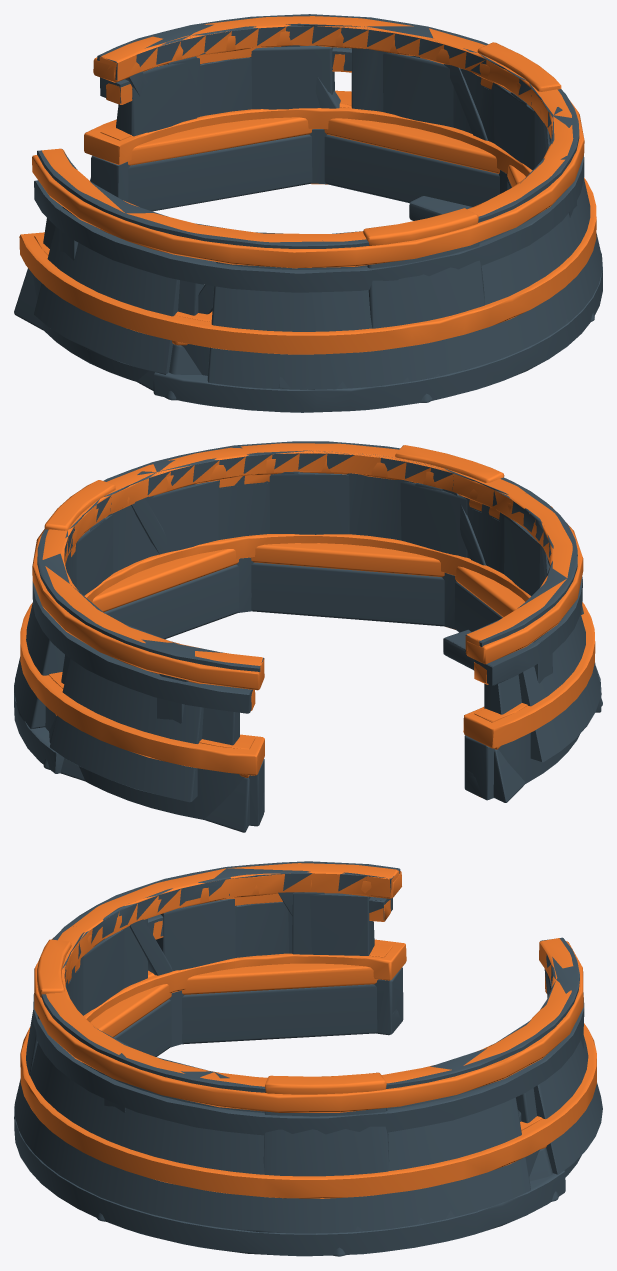
The model's file is Motor_Covers.fbx.
3 renders of one model, top to bottom at view 1: azimuth 30°, elevation 25°; view 2: azimuth 150°, elevation 25°; view 3: azimuth 270°, elevation 25°, orthographic.
Visible parts, largest first — view 1: MC_04_Crescent_Shield, MC_03_Faceted_Vented, MC_06_Hex_Bumper, MC_01_Low_Bumper, MC_02_Open_Roll_Cage, MC_09_Louver_Cage, MC_08_Petal_Armor, MC_05_Turbine_Decor, MC_10_Twin_Skid, MC_07_Double_Halo; view 2: MC_06_Hex_Bumper, MC_03_Faceted_Vented, MC_01_Low_Bumper, MC_08_Petal_Armor, MC_02_Open_Roll_Cage, MC_05_Turbine_Decor, MC_04_Crescent_Shield, MC_09_Louver_Cage, MC_10_Twin_Skid; view 3: MC_04_Crescent_Shield, MC_03_Faceted_Vented, MC_01_Low_Bumper, MC_06_Hex_Bumper, MC_02_Open_Roll_Cage, MC_09_Louver_Cage, MC_05_Turbine_Decor, MC_10_Twin_Skid, MC_08_Petal_Armor.
Boxes of the visible parts, x1,y1,x2,y2 form: MC_04_Crescent_Shield: [153, 48, 602, 412]; MC_03_Faceted_Vented: [32, 31, 584, 315]; MC_06_Hex_Bumper: [14, 117, 594, 402]; MC_01_Low_Bumper: [19, 90, 596, 381]; MC_02_Open_Roll_Cage: [42, 16, 573, 242]; MC_09_Louver_Cage: [34, 47, 584, 321]; MC_08_Petal_Armor: [34, 45, 599, 389]; MC_05_Turbine_Decor: [37, 14, 579, 314]; MC_10_Twin_Skid: [363, 42, 561, 328]; MC_07_Double_Halo: [106, 54, 411, 202]; MC_06_Hex_Bumper: [43, 543, 602, 832]; MC_03_Faceted_Vented: [32, 458, 583, 822]; MC_01_Low_Bumper: [20, 534, 595, 826]; MC_08_Petal_Armor: [14, 474, 600, 802]; MC_02_Open_Roll_Cage: [42, 443, 572, 819]; MC_05_Turbine_Decor: [37, 441, 577, 797]; MC_04_Crescent_Shield: [14, 472, 601, 773]; MC_09_Louver_Cage: [32, 564, 582, 749]; MC_10_Twin_Skid: [44, 445, 504, 653]; MC_04_Crescent_Shield: [14, 918, 565, 1256]; MC_03_Faceted_Vented: [34, 871, 583, 1123]; MC_01_Low_Bumper: [20, 939, 596, 1198]; MC_06_Hex_Bumper: [14, 963, 558, 1256]; MC_02_Open_Roll_Cage: [46, 863, 573, 1086]; MC_09_Louver_Cage: [33, 897, 584, 1135]; MC_05_Turbine_Decor: [41, 861, 579, 1121]; MC_10_Twin_Skid: [26, 939, 389, 1176]; MC_08_Petal_Armor: [57, 893, 602, 1233].
Bounding box in the file's own units: 3.79 × 1.2 × 3.79.
